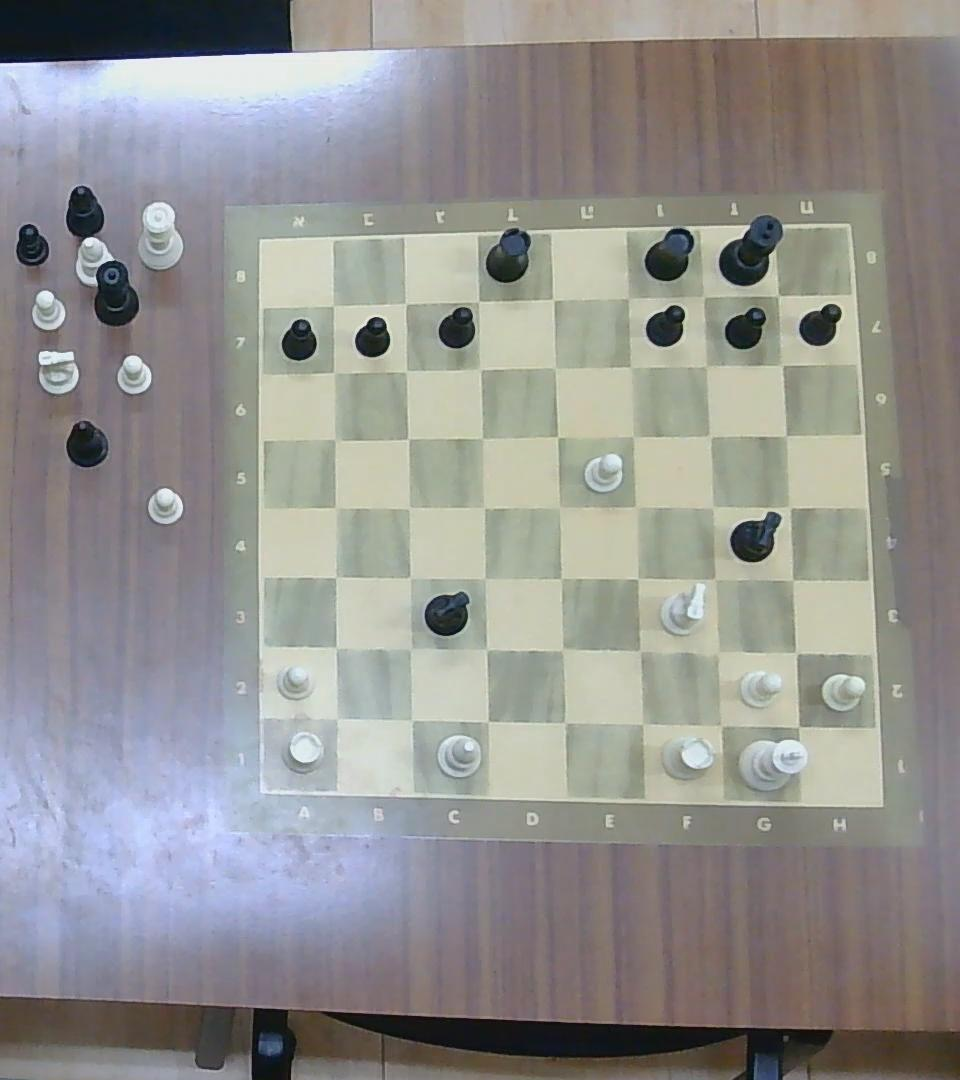xcorner: (702, 707, 737, 740), (624, 707, 658, 740), (701, 636, 734, 669), (781, 708, 813, 742), (624, 635, 655, 667), (548, 706, 579, 738), (547, 633, 578, 665), (470, 633, 501, 665), (394, 703, 425, 734), (320, 701, 351, 732), (780, 637, 811, 668), (470, 705, 502, 735), (622, 563, 652, 594), (547, 563, 577, 593), (320, 562, 350, 591), (394, 633, 424, 662), (776, 564, 806, 593), (320, 633, 350, 662), (615, 351, 645, 380), (700, 564, 729, 593), (622, 491, 651, 520), (394, 562, 423, 591), (698, 491, 727, 520), (470, 564, 500, 592), (545, 491, 573, 520), (538, 284, 566, 313), (619, 421, 648, 449), (470, 492, 498, 520), (540, 352, 568, 380), (775, 492, 804, 519), (467, 423, 495, 450), (395, 492, 423, 519), (543, 421, 571, 448), (393, 423, 421, 450), (322, 494, 350, 521), (692, 352, 720, 379), (320, 358, 348, 384), (696, 422, 723, 448), (615, 283, 641, 310), (768, 351, 795, 377), (322, 425, 348, 451), (465, 287, 491, 313), (393, 356, 418, 382), (467, 355, 492, 380), (773, 423, 798, 447), (691, 283, 715, 307), (393, 290, 418, 313), (322, 294, 345, 316), (767, 284, 790, 306)
